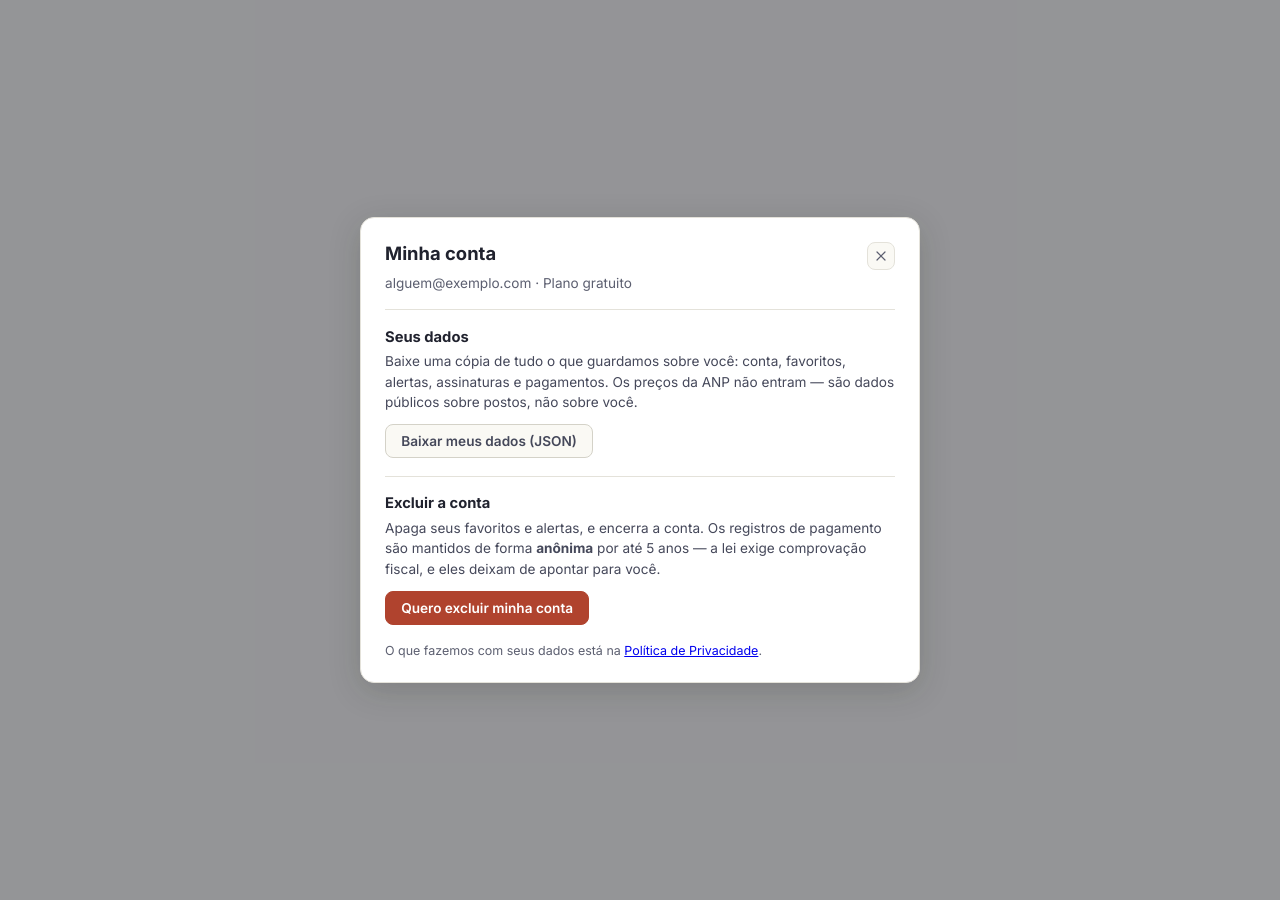
Test case: excluir conta — o atrito › exige a palavra exata antes de liberar o botão
The image size is (1280, 900).
Click the button "Quero excluir minha conta".
click(487, 608)  # box [385,591,589,625]
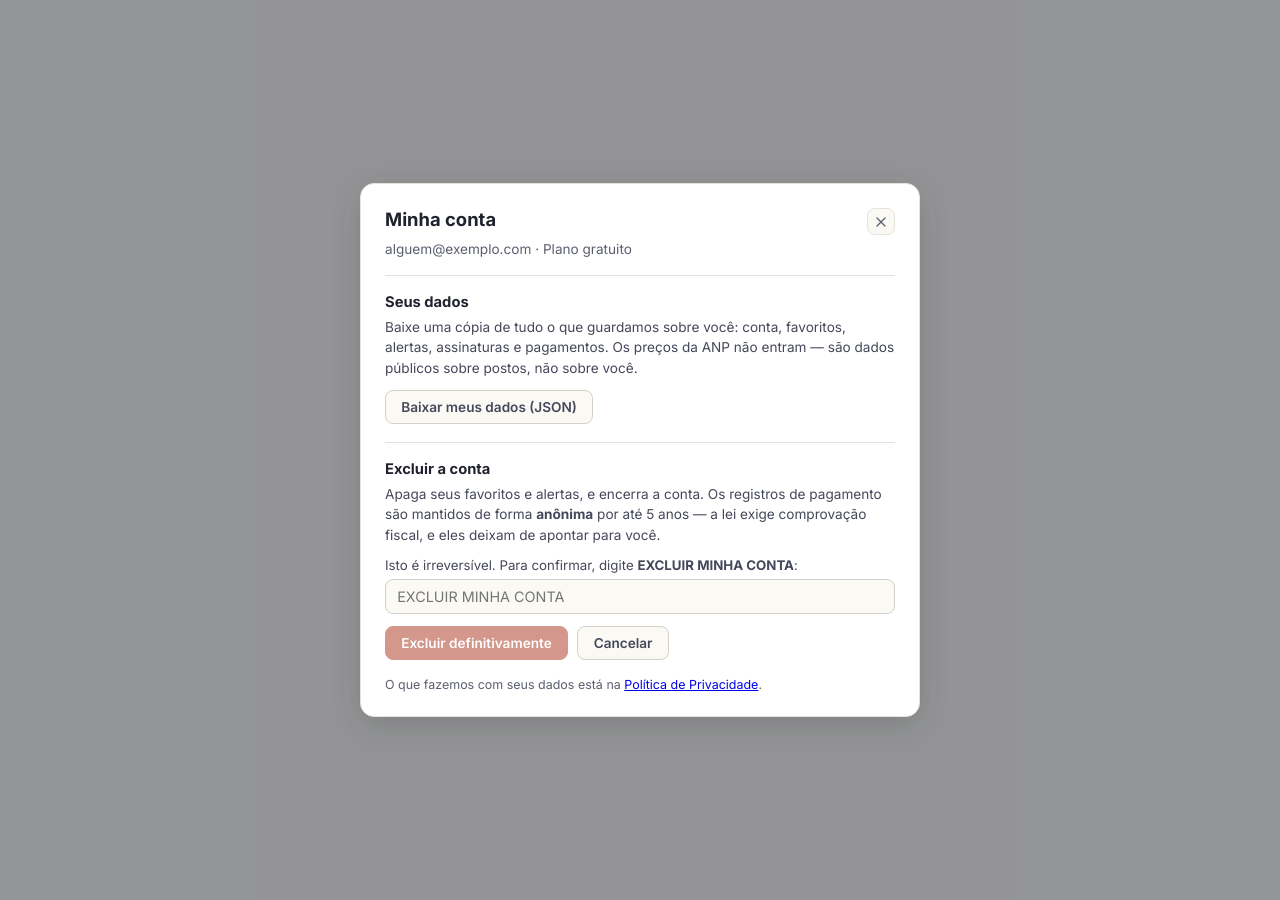
Check: the button "Excluir definitivamente" is disabled, box [385,626,568,660]
Type "excluir" into the field labelled "irreversível".
click(640, 597); type("excluir")  # box [385,579,895,614]
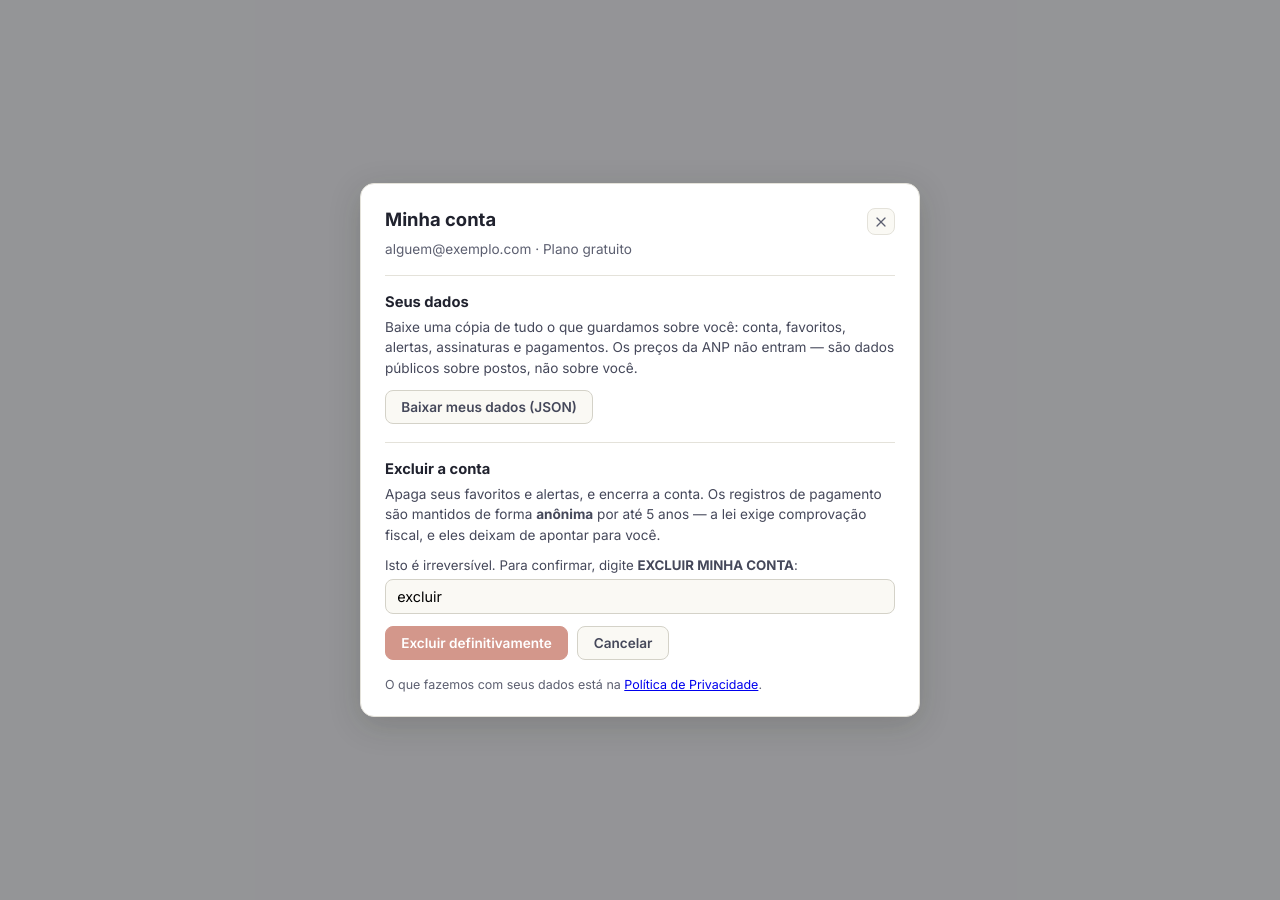
Check: the button "Excluir definitivamente" is disabled, box [385,626,568,660]
Replace the text in the field labelled "irreversível" with "EXCLUIR MINHA CONTA" at (640, 597), box [385,579,895,614]
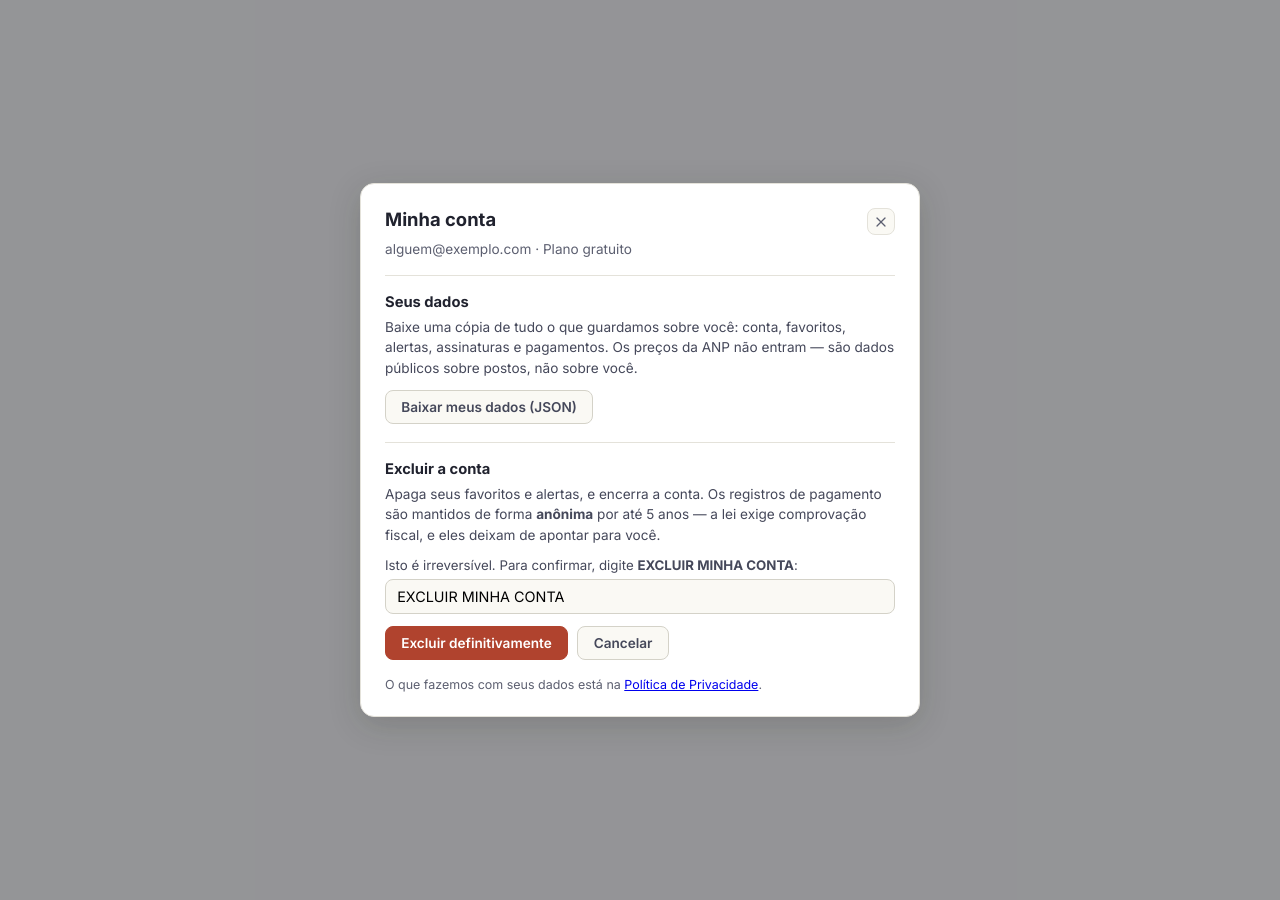
Check: the button "Excluir definitivamente" is enabled, box [385,626,568,660]
